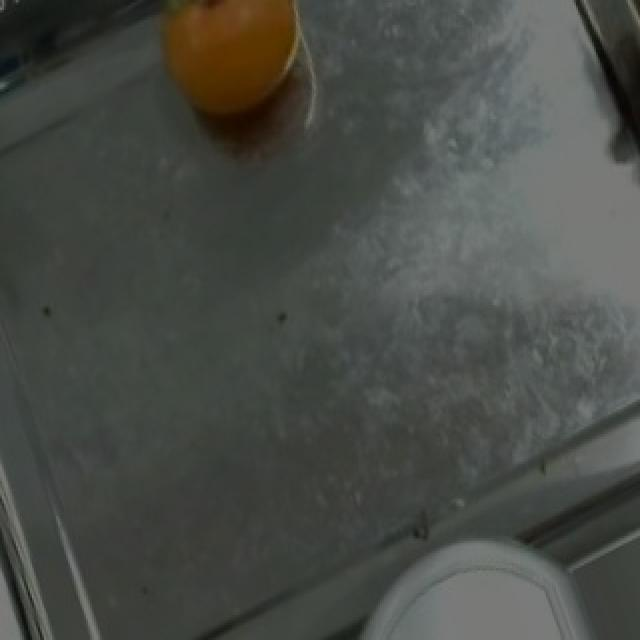Fruit: (136, 2, 334, 146), (370, 553, 578, 640)
